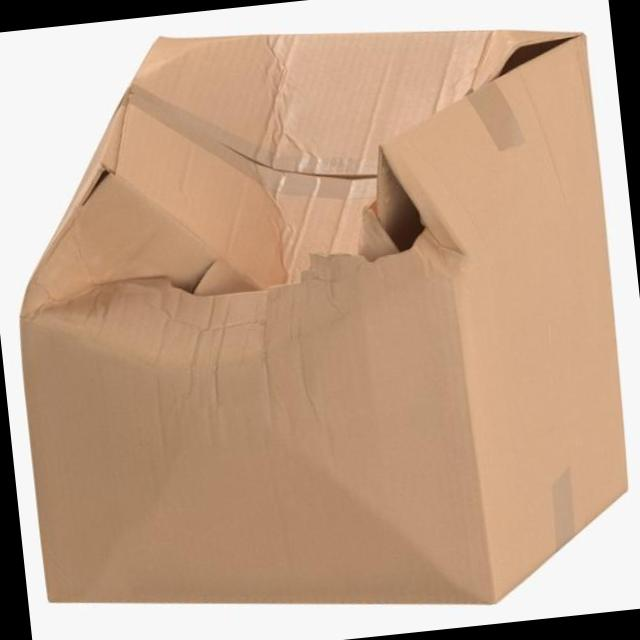box: (120, 293, 468, 586)
